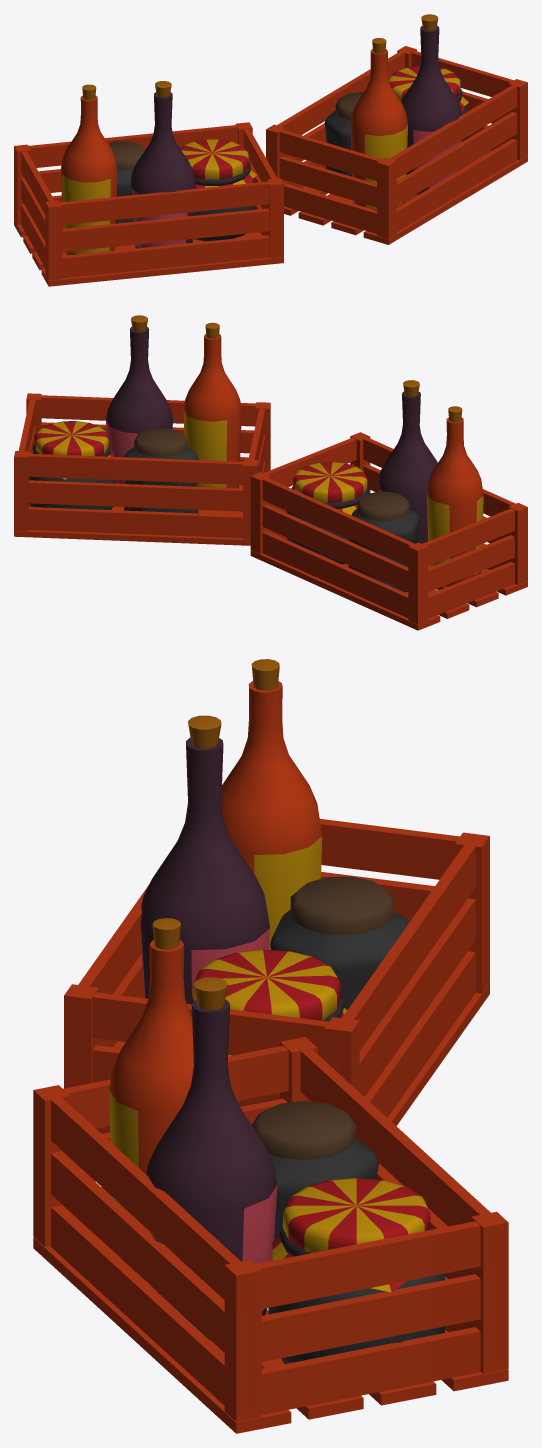
Rendered from Bottles.glb.
3 renders of one model, top to bottom at view 1: azimuth 30°, elevation 25°; view 2: azimuth 150°, elevation 25°; view 3: azimuth 270°, elevation 25°, orthographic. The views are drawn at different scales.
Visible parts, largest first — view 1: Bottles; view 2: Bottles; view 3: Bottles.
Part boxes in pixels (x1,y1,x2,y2): Bottles: (14, 14, 527, 286); Bottles: (14, 315, 527, 630); Bottles: (33, 659, 508, 1433).
Size of the model in its own units: 2.24 by 0.7683 by 0.945.
3 materials, 1 textured.
